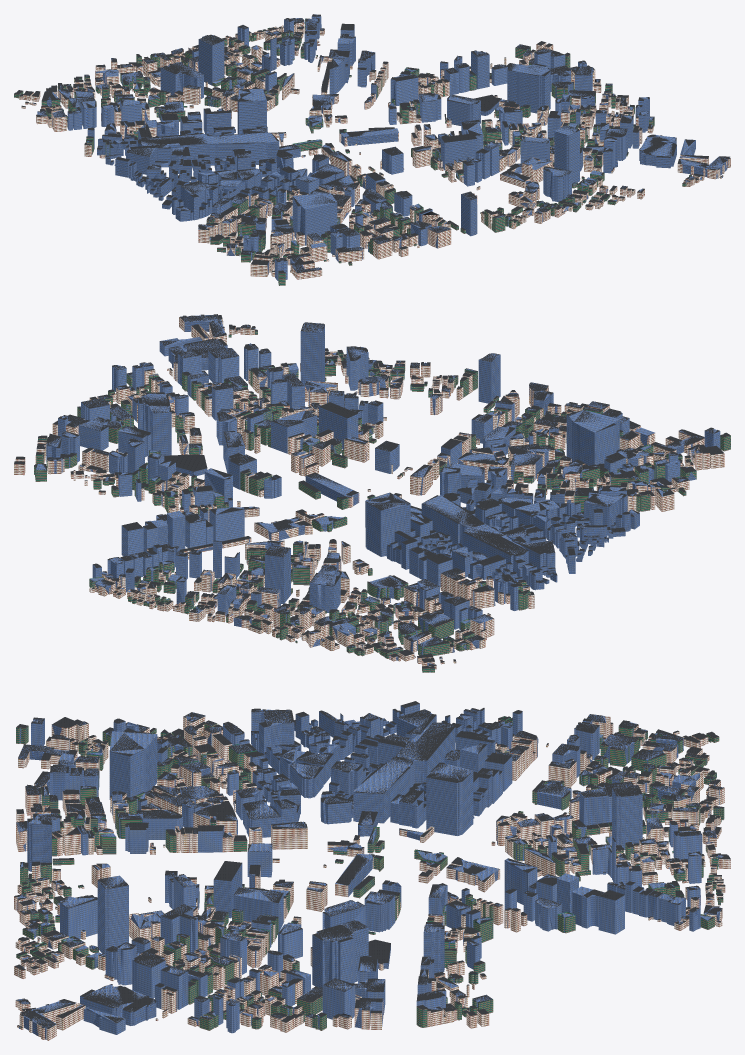
Rendered from shibuya_plateau_buildings.glb.
The picture shows the model from 3 angles, top to bottom: view 1: azimuth 30°, elevation 25°; view 2: azimuth 150°, elevation 25°; view 3: azimuth 270°, elevation 25°; orthographic projection. The views are drawn at different scales.
Parts seen in each view (by area): view 1: PlateauTile_data155, PlateauTile_data147, PlateauTile_data142, PlateauTile_data150, PlateauTile_data153, PlateauTile_data157, PlateauTile_data143, PlateauTile_data151, PlateauProxyTile_data155, PlateauProxyTile_data142, PlateauProxyTile_data147, PlateauProxyTile_data157 (+4 smaller); view 2: PlateauTile_data153, PlateauTile_data155, PlateauTile_data157, PlateauTile_data150, PlateauTile_data147, PlateauTile_data142, PlateauTile_data143, PlateauTile_data151, PlateauProxyTile_data155, PlateauProxyTile_data147, PlateauProxyTile_data142, PlateauProxyTile_data157 (+4 smaller); view 3: PlateauTile_data155, PlateauTile_data142, PlateauTile_data153, PlateauTile_data150, PlateauTile_data147, PlateauTile_data157, PlateauTile_data143, PlateauTile_data151, PlateauProxyTile_data155, PlateauProxyTile_data147, PlateauProxyTile_data142, PlateauProxyTile_data157 (+4 smaller).
Part boxes in pixels (left/top/right/bottom): PlateauTile_data155: left=97, top=88, right=343, bottom=221; PlateauTile_data147: left=198, top=175, right=408, bottom=285; PlateauTile_data142: left=487, top=97, right=730, bottom=212; PlateauTile_data150: left=400, top=41, right=634, bottom=145; PlateauTile_data153: left=166, top=14, right=388, bottom=112; PlateauTile_data157: left=14, top=52, right=231, bottom=158; PlateauTile_data143: left=343, top=133, right=572, bottom=248; PlateauTile_data151: left=271, top=74, right=483, bottom=179; PlateauProxyTile_data155: left=102, top=88, right=344, bottom=218; PlateauProxyTile_data142: left=490, top=97, right=729, bottom=205; PlateauProxyTile_data147: left=198, top=175, right=406, bottom=274; PlateauProxyTile_data157: left=20, top=53, right=227, bottom=154; PlateauTile_data153: left=89, top=504, right=350, bottom=633; PlateauTile_data155: left=366, top=463, right=639, bottom=590; PlateauTile_data157: left=260, top=547, right=534, bottom=672; PlateauTile_data150: left=14, top=385, right=270, bottom=513; PlateauTile_data147: left=458, top=401, right=730, bottom=512; PlateauTile_data142: left=112, top=314, right=382, bottom=420; PlateauTile_data143: left=311, top=353, right=561, bottom=474; PlateauTile_data151: left=190, top=410, right=439, bottom=540; PlateauProxyTile_data155: left=365, top=463, right=638, bottom=577; PlateauProxyTile_data147: left=458, top=401, right=716, bottom=500; PlateauProxyTile_data142: left=114, top=315, right=376, bottom=420; PlateauProxyTile_data157: left=266, top=547, right=529, bottom=672; PlateauTile_data155: left=243, top=701, right=495, bottom=837; PlateauTile_data142: left=14, top=876, right=262, bottom=1040; PlateauTile_data153: left=485, top=785, right=730, bottom=934; PlateauTile_data150: left=247, top=900, right=493, bottom=1032; PlateauTile_data147: left=16, top=712, right=262, bottom=835; PlateauTile_data157: left=478, top=710, right=724, bottom=833; PlateauTile_data143: left=14, top=807, right=251, bottom=928; PlateauTile_data151: left=234, top=821, right=500, bottom=932; PlateauProxyTile_data155: left=246, top=709, right=491, bottom=835; PlateauProxyTile_data147: left=18, top=712, right=260, bottom=835; PlateauProxyTile_data142: left=17, top=875, right=261, bottom=1039; PlateauProxyTile_data157: left=485, top=714, right=722, bottom=829.
Size of the model in its own units: 1112 by 113 by 1082.
6 materials, 6 textured.
